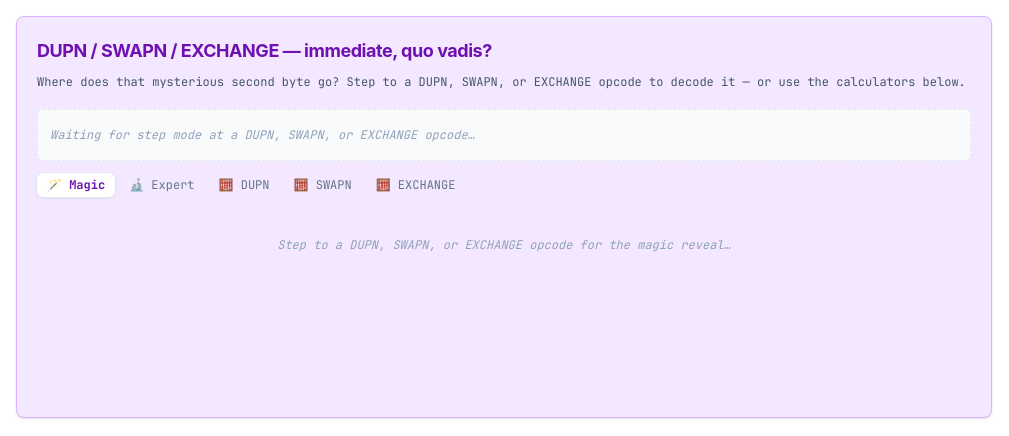
it: ImmediateQuoVadis › DUPN calculator encodes default depth 17 to 0x80 without stepping
Click the tab "🧮 DUPN".
click(244, 184)  # box [208, 172, 280, 196]
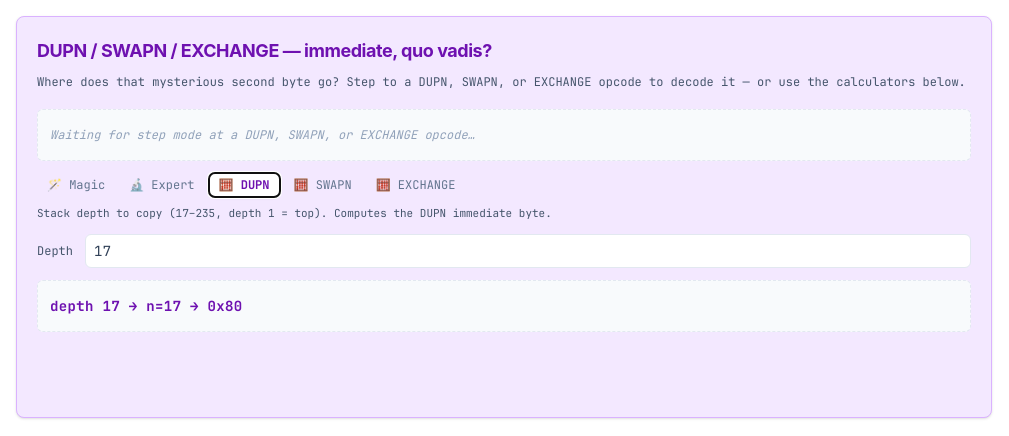
Expected: the text "depth 17 → n=17 → 0x80" is shown, [50, 296, 242, 316]
